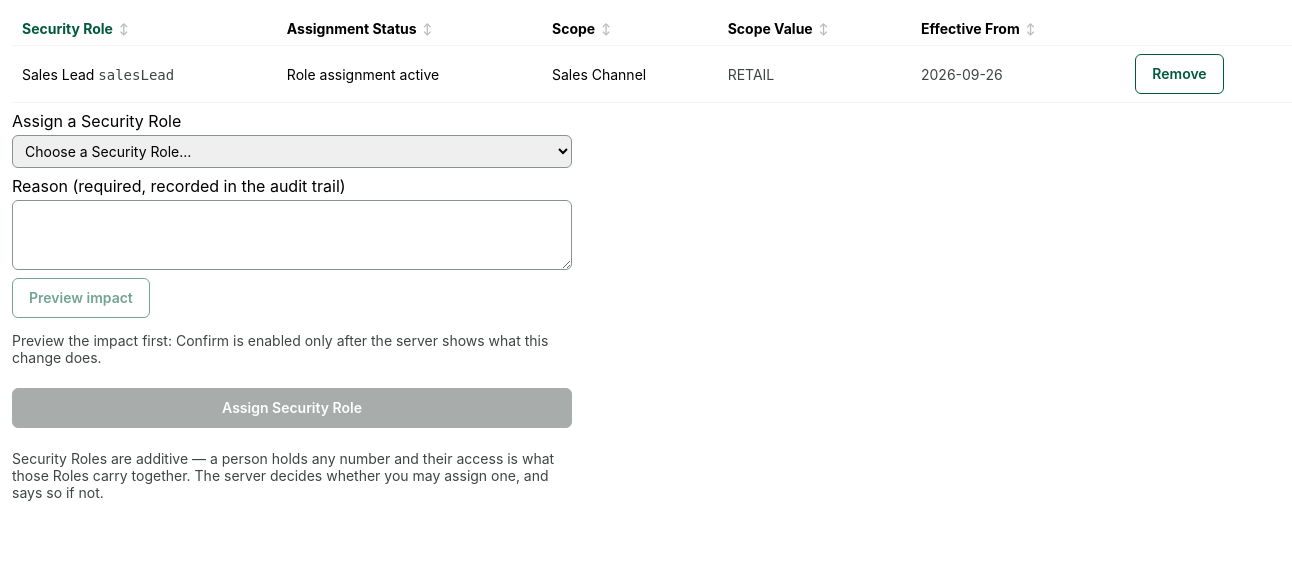
Test: Employee > Security Roles: Sales Channel scope values come from the server › a decided scope type with NO governed value in this tenant is shown unavailable, never offered
Select "Sales Lead" in the dropdown named "Security Role to assign": x=292, y=152 [12, 135, 572, 168]
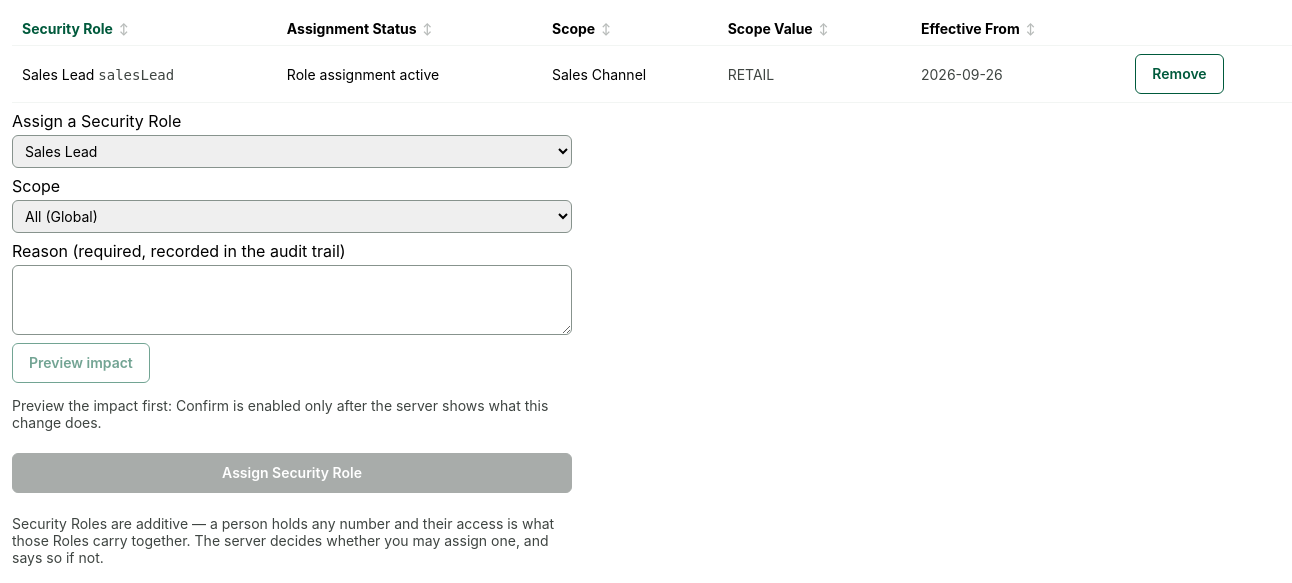
Expected: the dropdown named "Assignment scope" is shown, [12, 200, 572, 233]
